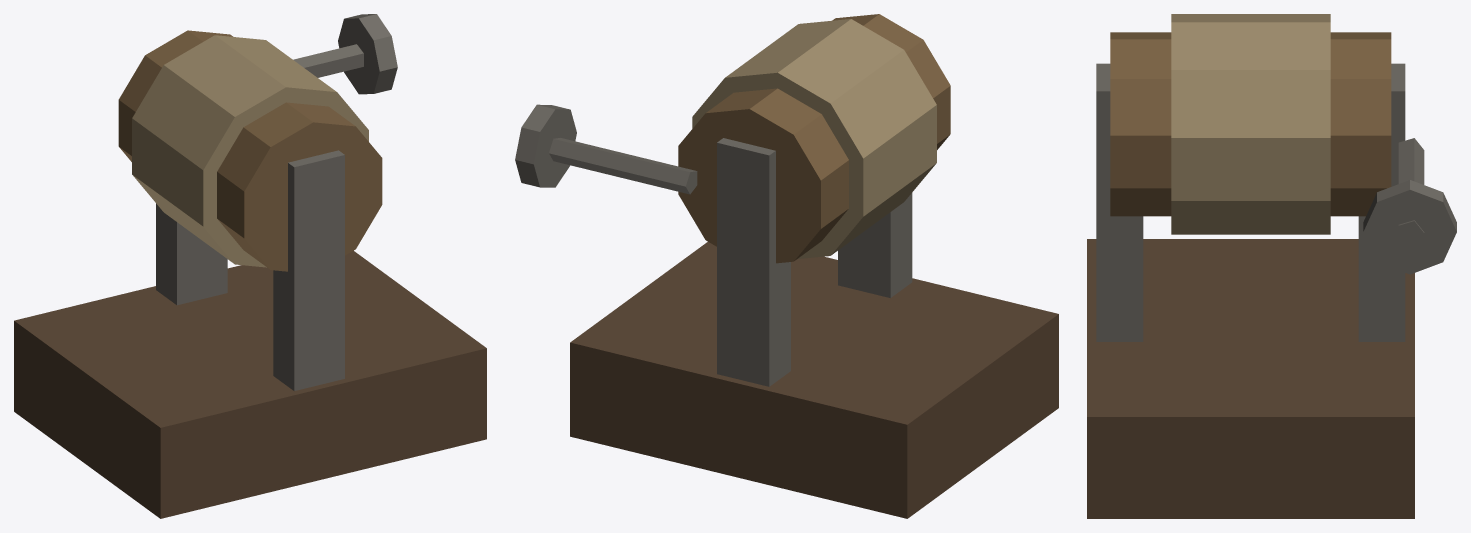
The model's file is P_Winch.glb.
3 views of the same model, side by side, from view 1: azimuth 30°, elevation 25°; view 2: azimuth 150°, elevation 25°; view 3: azimuth 270°, elevation 25° (orthographic). The views are drawn at different scales.
Parts seen in each view (by area): view 1: P_Winch; view 2: P_Winch; view 3: P_Winch.
Boxes of the visible parts, <box> form: P_Winch: <box>14,14,486,518</box>; P_Winch: <box>515,14,1058,518</box>; P_Winch: <box>1087,14,1456,518</box>.
Bounding box in the file's own units: 1 × 0.96 × 0.79.
